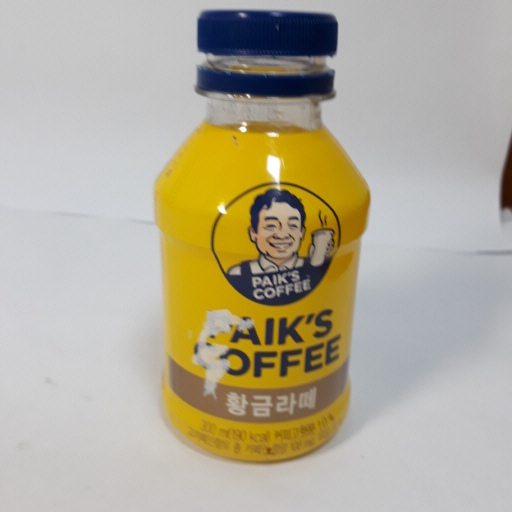Plastic_0: (154, 4, 373, 468)
